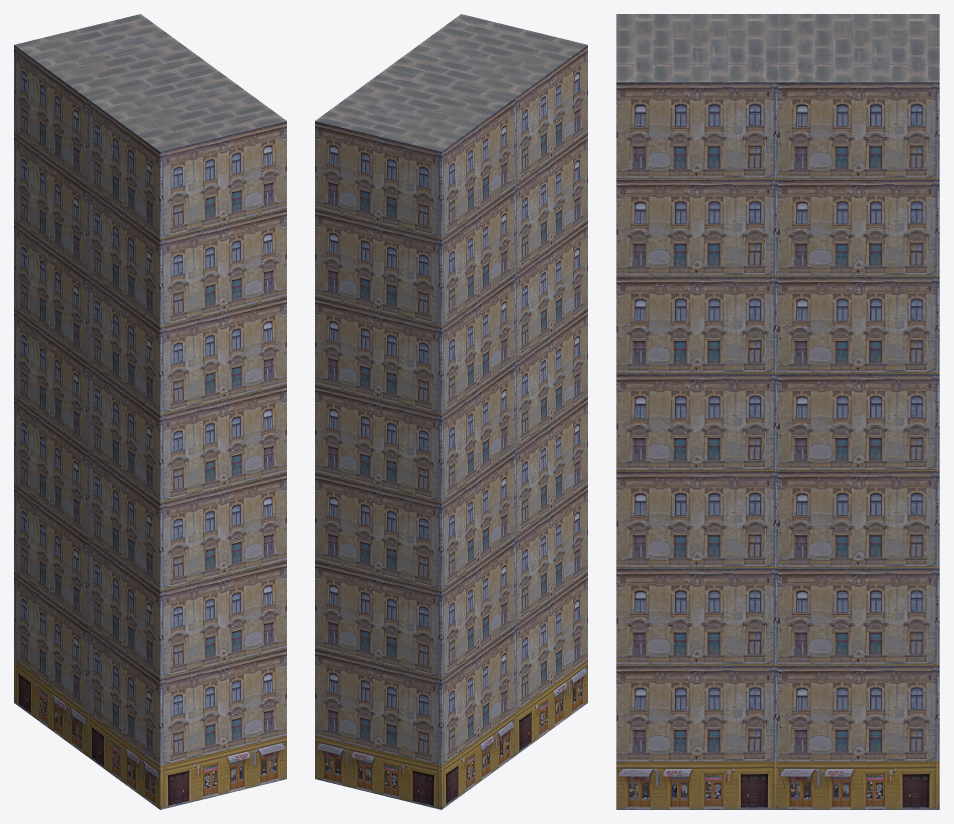
The model's file is Building061.fbx.
The picture shows the model from 3 angles, left to right: view 1: azimuth 30°, elevation 25°; view 2: azimuth 150°, elevation 25°; view 3: azimuth 270°, elevation 25°; orthographic projection. The views are drawn at different scales.
Parts seen in each view (by area): view 1: Building061; view 2: Building061; view 3: Building061.
Part boxes in pixels (box(x1,y1,x2,y2)): Building061: box(14, 14, 286, 809); Building061: box(315, 14, 587, 809); Building061: box(616, 14, 939, 809).
Size of the model in its own units: 6.8 by 33.76 by 13.59.
